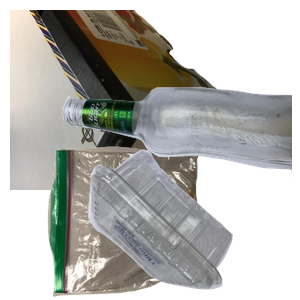cardboard: (10, 10, 238, 190)
glass: (60, 84, 300, 260)
plastic: (86, 147, 300, 300)
trash: (45, 144, 235, 300)
